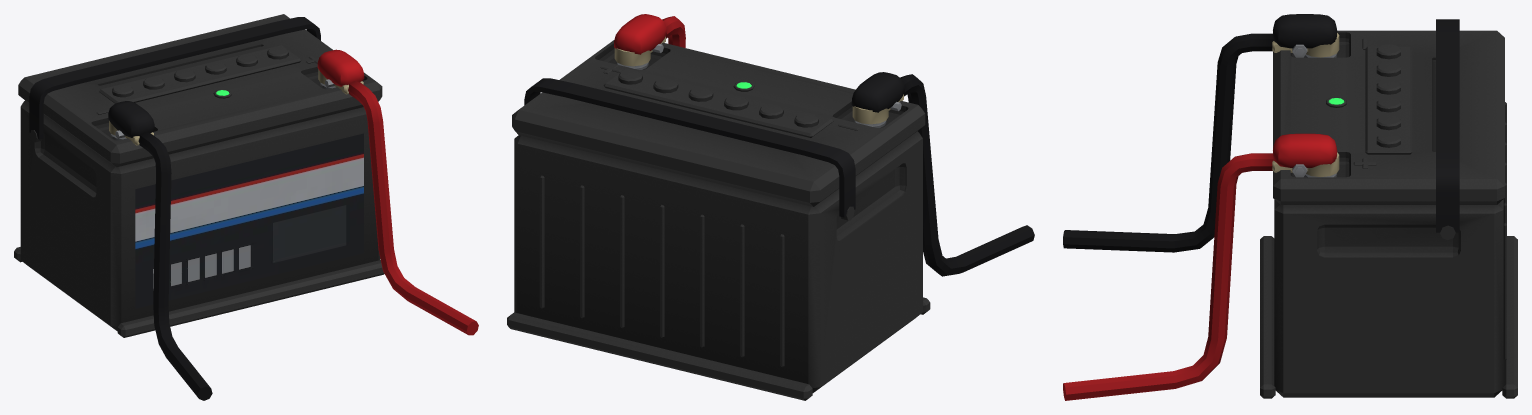
The model's file is battery-lo-v1.glb.
The picture shows the model from 3 angles, left to right: view 1: azimuth 30°, elevation 25°; view 2: azimuth 150°, elevation 25°; view 3: azimuth 270°, elevation 25°; orthographic projection. The views are drawn at different scales.
Parts seen in each view (by area): view 1: case, lid, clamp_pos, clamp_neg, handle_mesh; view 2: case, lid, handle_mesh, clamp_neg, clamp_pos; view 3: case, lid, clamp_pos, clamp_neg, handle_mesh.
Boxes of the visible parts, <box> form: case: <box>14,100,384,337</box>; lid: <box>18,14,382,167</box>; clamp_pos: <box>317,49,478,335</box>; clamp_neg: <box>108,101,212,400</box>; handle_mesh: <box>29,17,320,142</box>; case: <box>507,131,930,400</box>; lid: <box>512,40,925,206</box>; handle_mesh: <box>524,78,855,220</box>; clamp_neg: <box>851,72,1034,276</box>; clamp_pos: <box>614,14,685,66</box>; case: <box>1260,102,1517,398</box>; lid: <box>1273,30,1504,204</box>; clamp_pos: <box>1063,133,1339,400</box>; clamp_neg: <box>1063,14,1339,252</box>; handle_mesh: <box>1436,19,1459,239</box>.
Bounding box in the file's own units: 0.292 × 0.208 × 0.3472.
11 materials, 3 textured.
